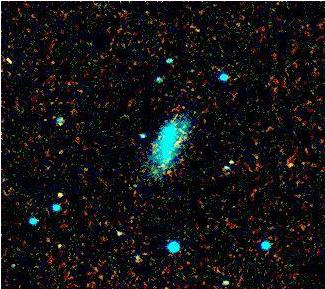star: (273, 148, 303, 178)
